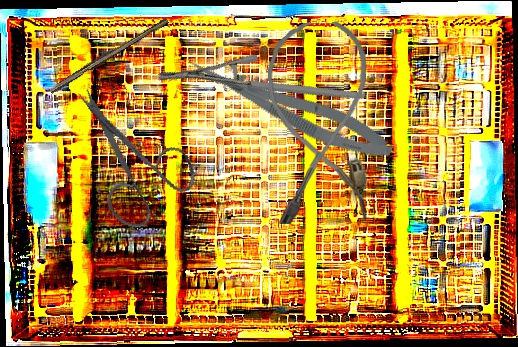Cannula: (266, 21, 372, 225)
Iris Scissors: (44, 84, 212, 241)
Micro Scissor: (180, 45, 399, 171)
Needle Holder: (156, 11, 366, 162)
Scalpel Handle: (47, 14, 170, 96)
